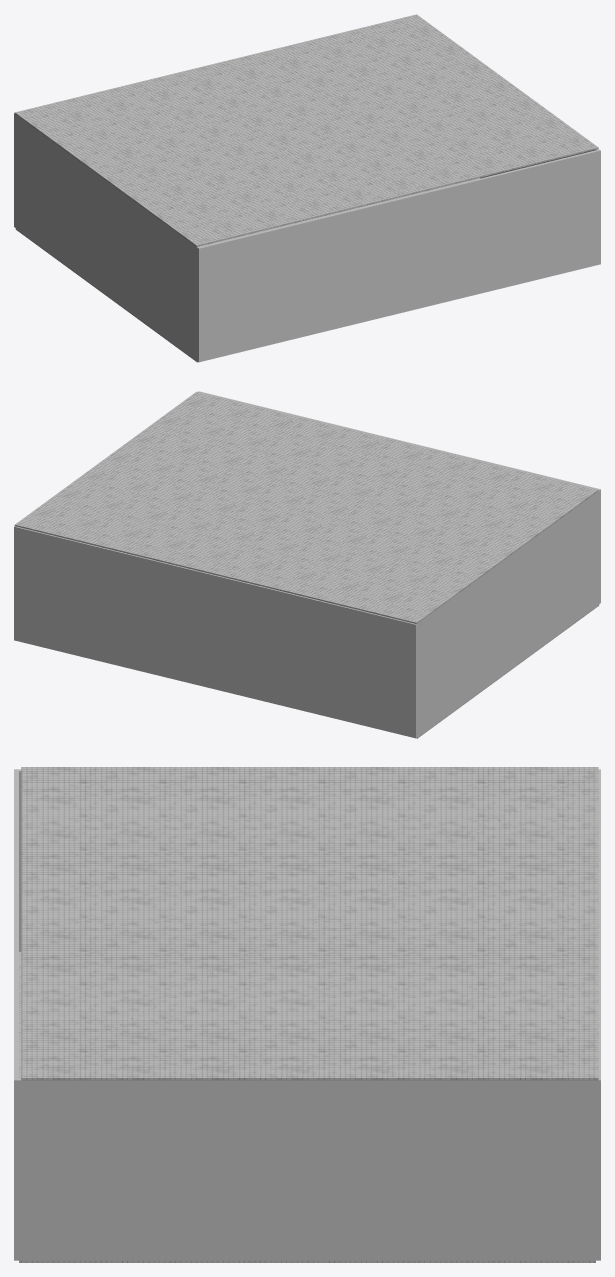
3 renders of one model, top to bottom at view 1: azimuth 30°, elevation 25°; view 2: azimuth 150°, elevation 25°; view 3: azimuth 270°, elevation 25°, orthographic. The views are drawn at different scales.
Parts seen in each view (by area): view 1: CSG_0, CSG_1; view 2: CSG_0, CSG_1; view 3: CSG_0, CSG_1.
Part boxes in pixels (bbox=[...]): CSG_0: bbox=[14, 14, 598, 362]; CSG_1: bbox=[14, 113, 600, 362]; CSG_0: bbox=[14, 391, 599, 738]; CSG_1: bbox=[14, 391, 600, 738]; CSG_0: bbox=[19, 767, 598, 1262]; CSG_1: bbox=[14, 769, 600, 1260].
Bounding box in the file's own units: 1184 × 328 × 944.
Materials: 1 (1 with a texture image).
